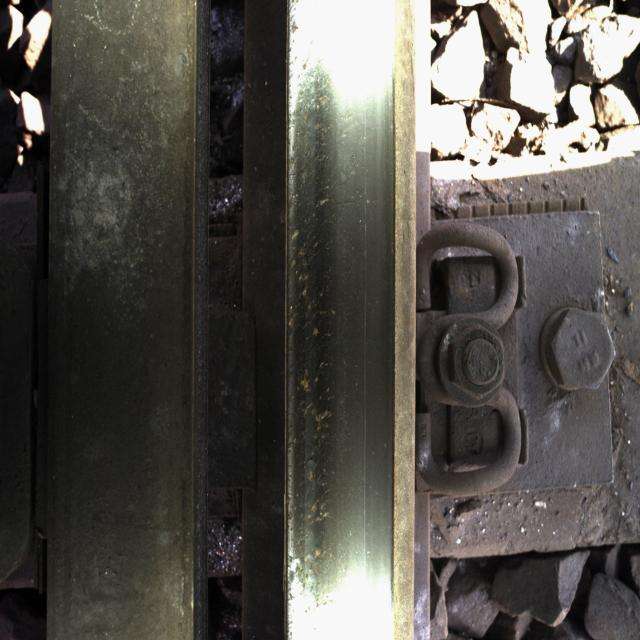crack: (281, 36, 334, 580)
